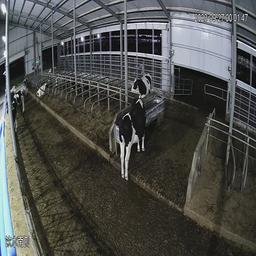cow: (118, 98, 148, 182), (129, 72, 153, 103), (6, 90, 21, 119), (36, 82, 50, 99), (23, 78, 29, 97)
